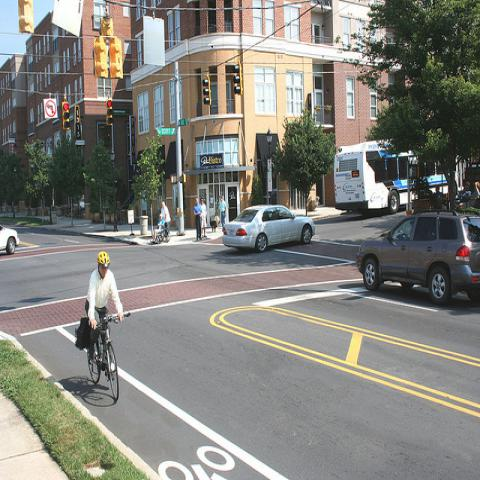bus: (333, 139, 410, 211)
car: (348, 211, 480, 304), (222, 204, 314, 251), (0, 224, 20, 256)
